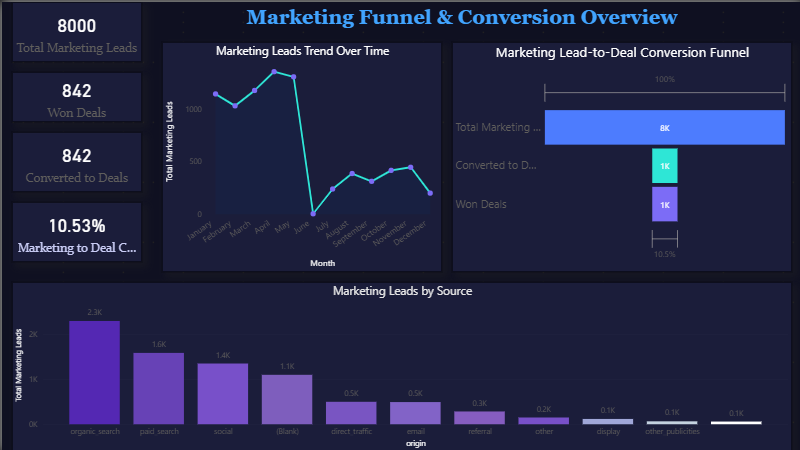

The dashboard page shown, as its layout file describes it:
{"tool":"powerbi","page":{"name":"Marketing Funnel & Conversion Overview","canvas":[1280,720],"ordinal":0},"visuals":[{"type":"textbox","box":[192,0,1088,48],"z":0},{"type":"card","fields":{"Values":["cleaned_data.Total Marketing Leads"]},"box":[16,0,208,96],"z":1000},{"type":"card","fields":{"Values":["cleaned_data.Marketing to Deal Conversion %"]},"box":[16,320,208,96],"z":2000},{"type":"card","fields":{"Values":["cleaned_data.Converted to Deals"]},"box":[16,208,208,96],"z":3000},{"type":"card","fields":{"Values":["cleaned_data.Won Deals"]},"box":[16,112,208,80],"z":4000},{"type":"stackedAreaChart","title":"Marketing Leads Trend Over Time","fields":{"Category":["marketing_leads.first_contact_date.Variation.Date Hierarchy.Month"],"Y":["cleaned_data.Total Marketing Leads"]},"box":[256,64,448,368],"z":5000},{"type":"funnel","title":"Marketing Lead-to-Deal Conversion Funnel","fields":{"Y":["cleaned_data.Total Marketing Leads","cleaned_data.Converted to Deals","cleaned_data.Won Deals"]},"box":[720,64,544,368],"z":7000},{"type":"clusteredColumnChart","title":"Marketing Leads by Source","fields":{"Category":["marketing_leads.origin"],"Y":["cleaned_data.Total Marketing Leads"]},"box":[16,448,1248,272],"z":8000}]}

Visuals, with their boxes in screenshot pixels (x1, y1, x2, y2), scaled from the page's 1280x720 canvas onto the 800x450 screenshot:
textbox: box=[120, 0, 799, 30]
card - cleaned_data.Total Marketing Leads: box=[10, 0, 140, 60]
card - cleaned_data.Marketing to Deal Conversion %: box=[10, 200, 140, 260]
card - cleaned_data.Converted to Deals: box=[10, 130, 140, 190]
card - cleaned_data.Won Deals: box=[10, 70, 140, 120]
"Marketing Leads Trend Over Time" stackedAreaChart: box=[160, 40, 440, 270]
"Marketing Lead-to-Deal Conversion Funnel" funnel: box=[450, 40, 790, 270]
"Marketing Leads by Source" clusteredColumnChart: box=[10, 280, 790, 449]
